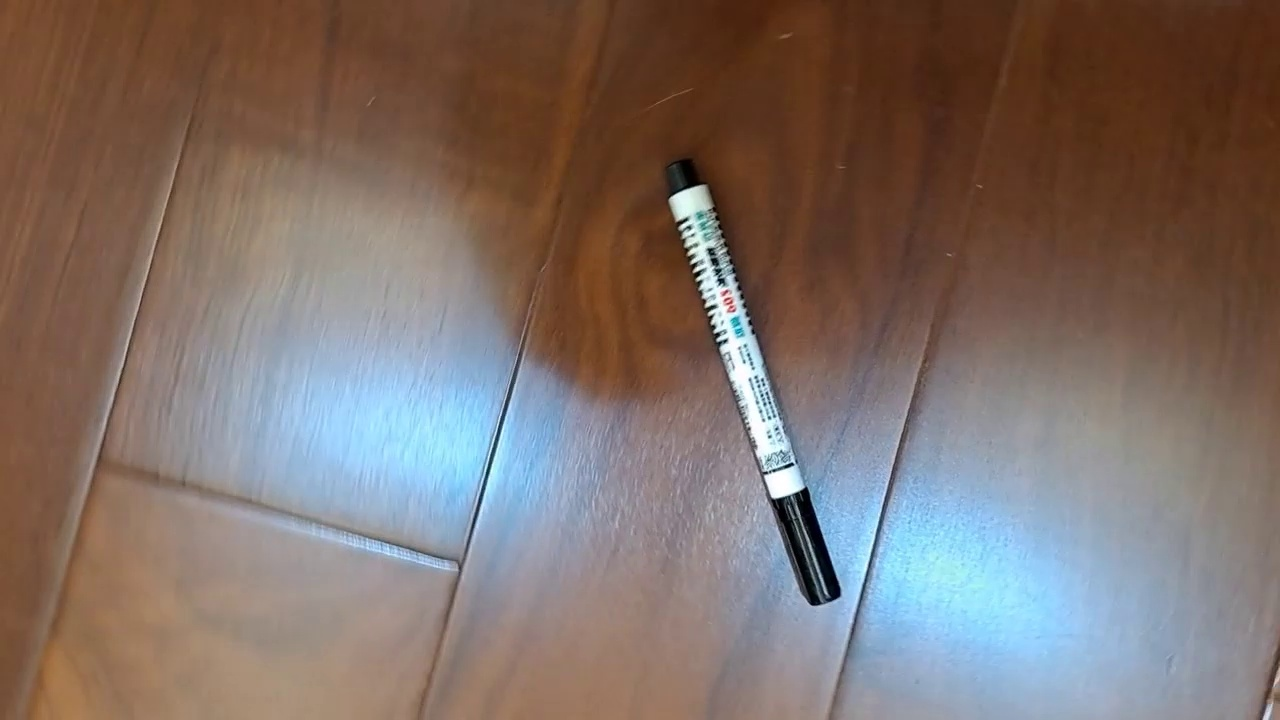pen: (662, 155, 842, 607)
